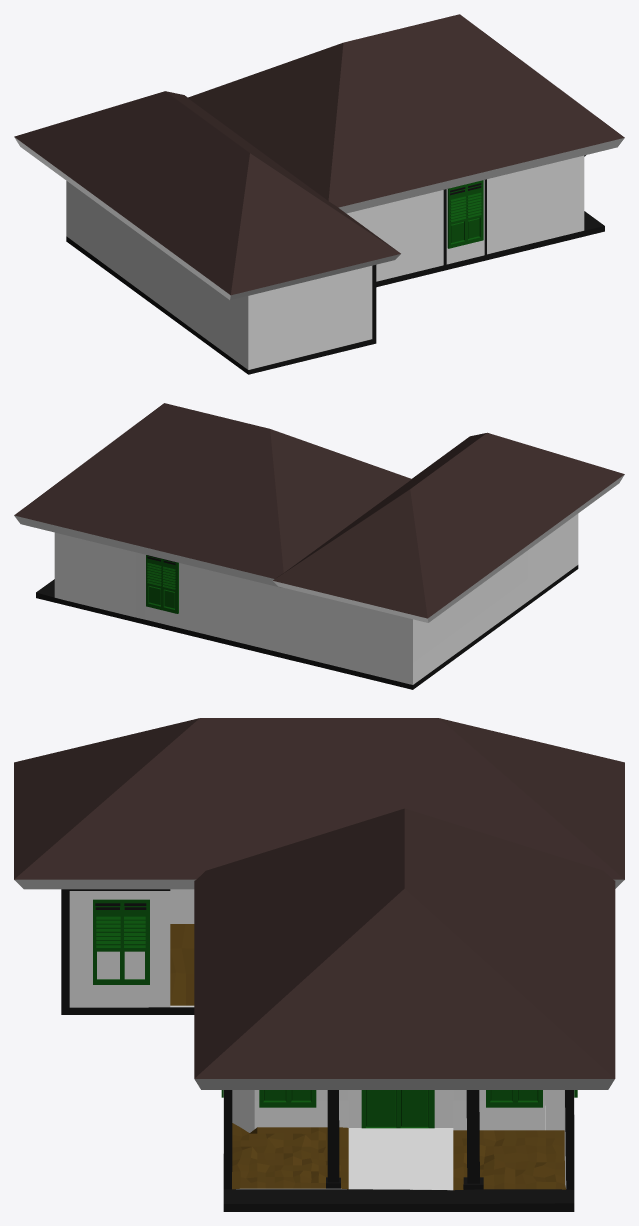
The model's file is DapurUmum.fbx.
3 views of the same model, one above another, from view 1: azimuth 30°, elevation 25°; view 2: azimuth 150°, elevation 25°; view 3: azimuth 270°, elevation 25° (orthographic). The views are drawn at different scales.
Visible parts, largest first — view 1: Cube.002, Cube.003, Cube.001, Cube, Cube.007; view 2: Cube.002, Cube.003, Cube.001, Cube, Cube.008; view 3: Cube.002, Cube.003, Cube, Cube.001, Cube.006, Cube.009, Cube.004, Cube.005.
Boxes of the visible parts, bbox=[...] form: Cube.002: bbox=[187, 14, 624, 213]; Cube.003: bbox=[14, 91, 400, 300]; Cube.001: bbox=[66, 181, 376, 374]; Cube: bbox=[346, 155, 604, 287]; Cube.007: bbox=[447, 180, 483, 248]; Cube.002: bbox=[14, 403, 411, 587]; Cube.003: bbox=[273, 432, 624, 622]; Cube.001: bbox=[297, 514, 578, 689]; Cube: bbox=[36, 532, 297, 661]; Cube.008: bbox=[146, 555, 178, 613]; Cube.002: bbox=[194, 808, 615, 1089]; Cube.003: bbox=[14, 718, 624, 889]; Cube: bbox=[223, 1090, 574, 1211]; Cube.001: bbox=[61, 889, 194, 1014]; Cube.006: bbox=[93, 899, 149, 984]; Cube.009: bbox=[361, 1090, 434, 1128]; Cube.004: bbox=[259, 1090, 316, 1107]; Cube.005: bbox=[486, 1090, 542, 1107].
Size of the model in its own units: 1040 by 414 by 852.
